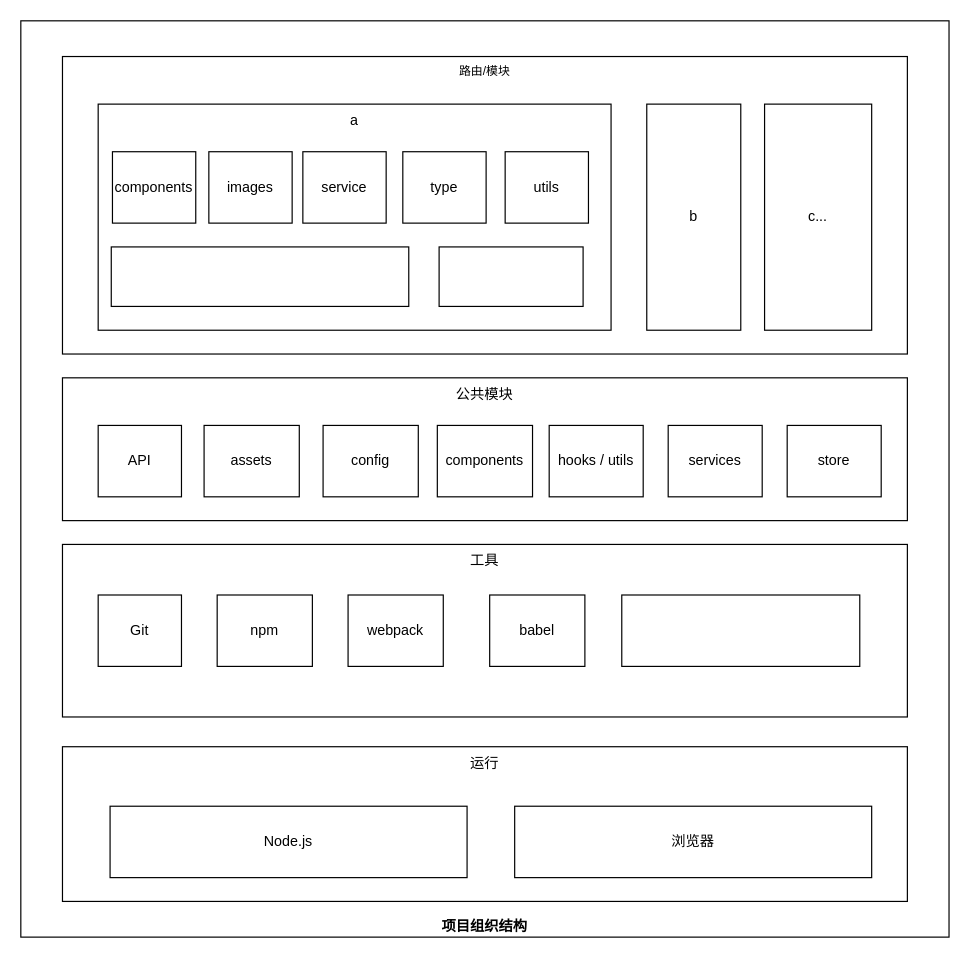
This 970x958 diagram has some shape labels left out. Here are the shapes that lost their labels. From the top down, the centre of each, then its label:
the point at 259,276: 路由 index + list + detail
the point at 510,276: 子模块 a1 + a2
the point at 740,630: eslint / stylelint / prettier
